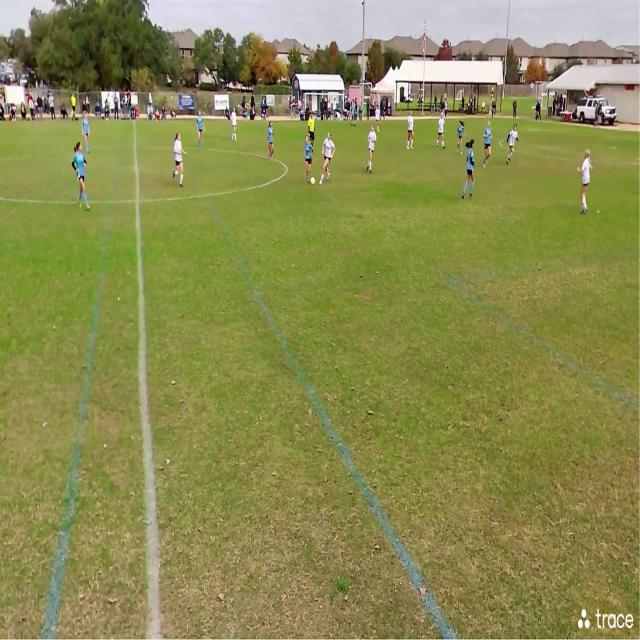ball: (310, 174, 316, 187)
team1: (76, 142, 91, 208), (465, 141, 478, 202), (304, 134, 316, 184), (483, 120, 494, 167), (196, 111, 205, 151), (84, 114, 92, 155), (268, 121, 276, 161), (455, 120, 464, 155)
team2: (580, 151, 594, 218), (319, 131, 334, 187), (171, 133, 185, 190), (506, 123, 518, 169), (368, 124, 378, 174), (407, 111, 415, 151), (438, 113, 447, 148), (230, 110, 238, 144)
